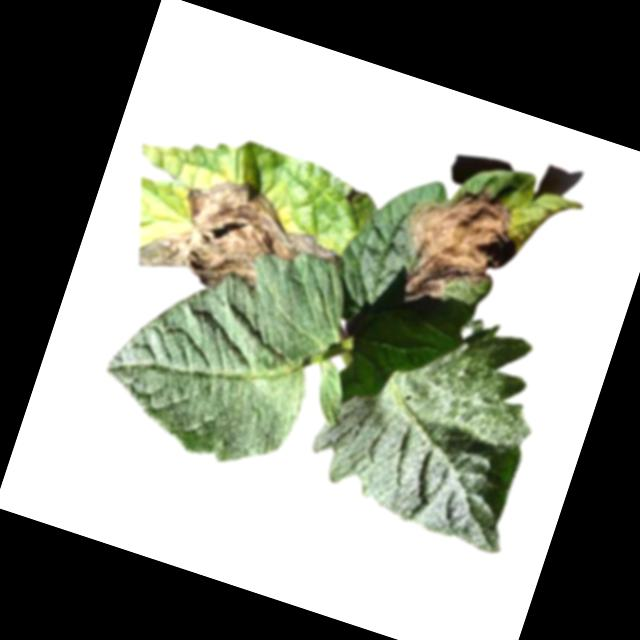Late_blight: (134, 155, 356, 327), (384, 164, 534, 324)
